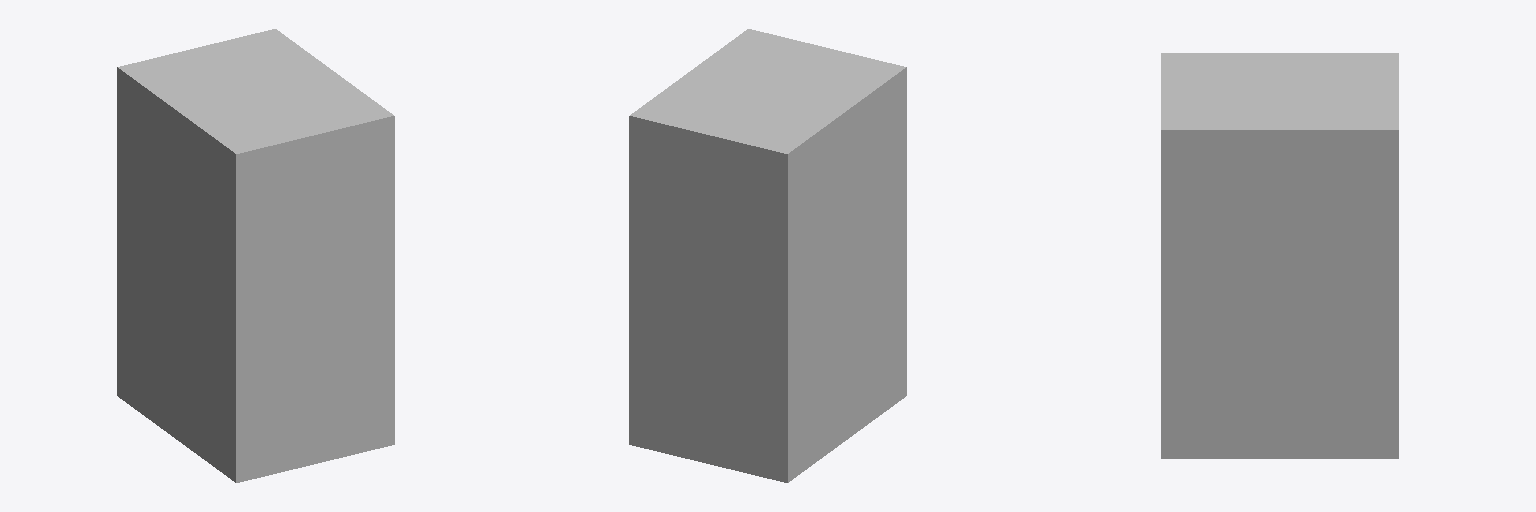
The model's file is col6.obj.
3 renders of one model, left to right at view 1: azimuth 30°, elevation 25°; view 2: azimuth 150°, elevation 25°; view 3: azimuth 270°, elevation 25°, orthographic.
Visible parts, largest first — view 1: Körper6; view 2: Körper6; view 3: Körper6.
Part boxes in pixels (x1,y1,x2,y2): Körper6: (117, 29, 394, 482); Körper6: (629, 29, 906, 482); Körper6: (1161, 53, 1398, 458).
Bounding box in the file's own units: 0.0215 × 0.0427 × 0.028.